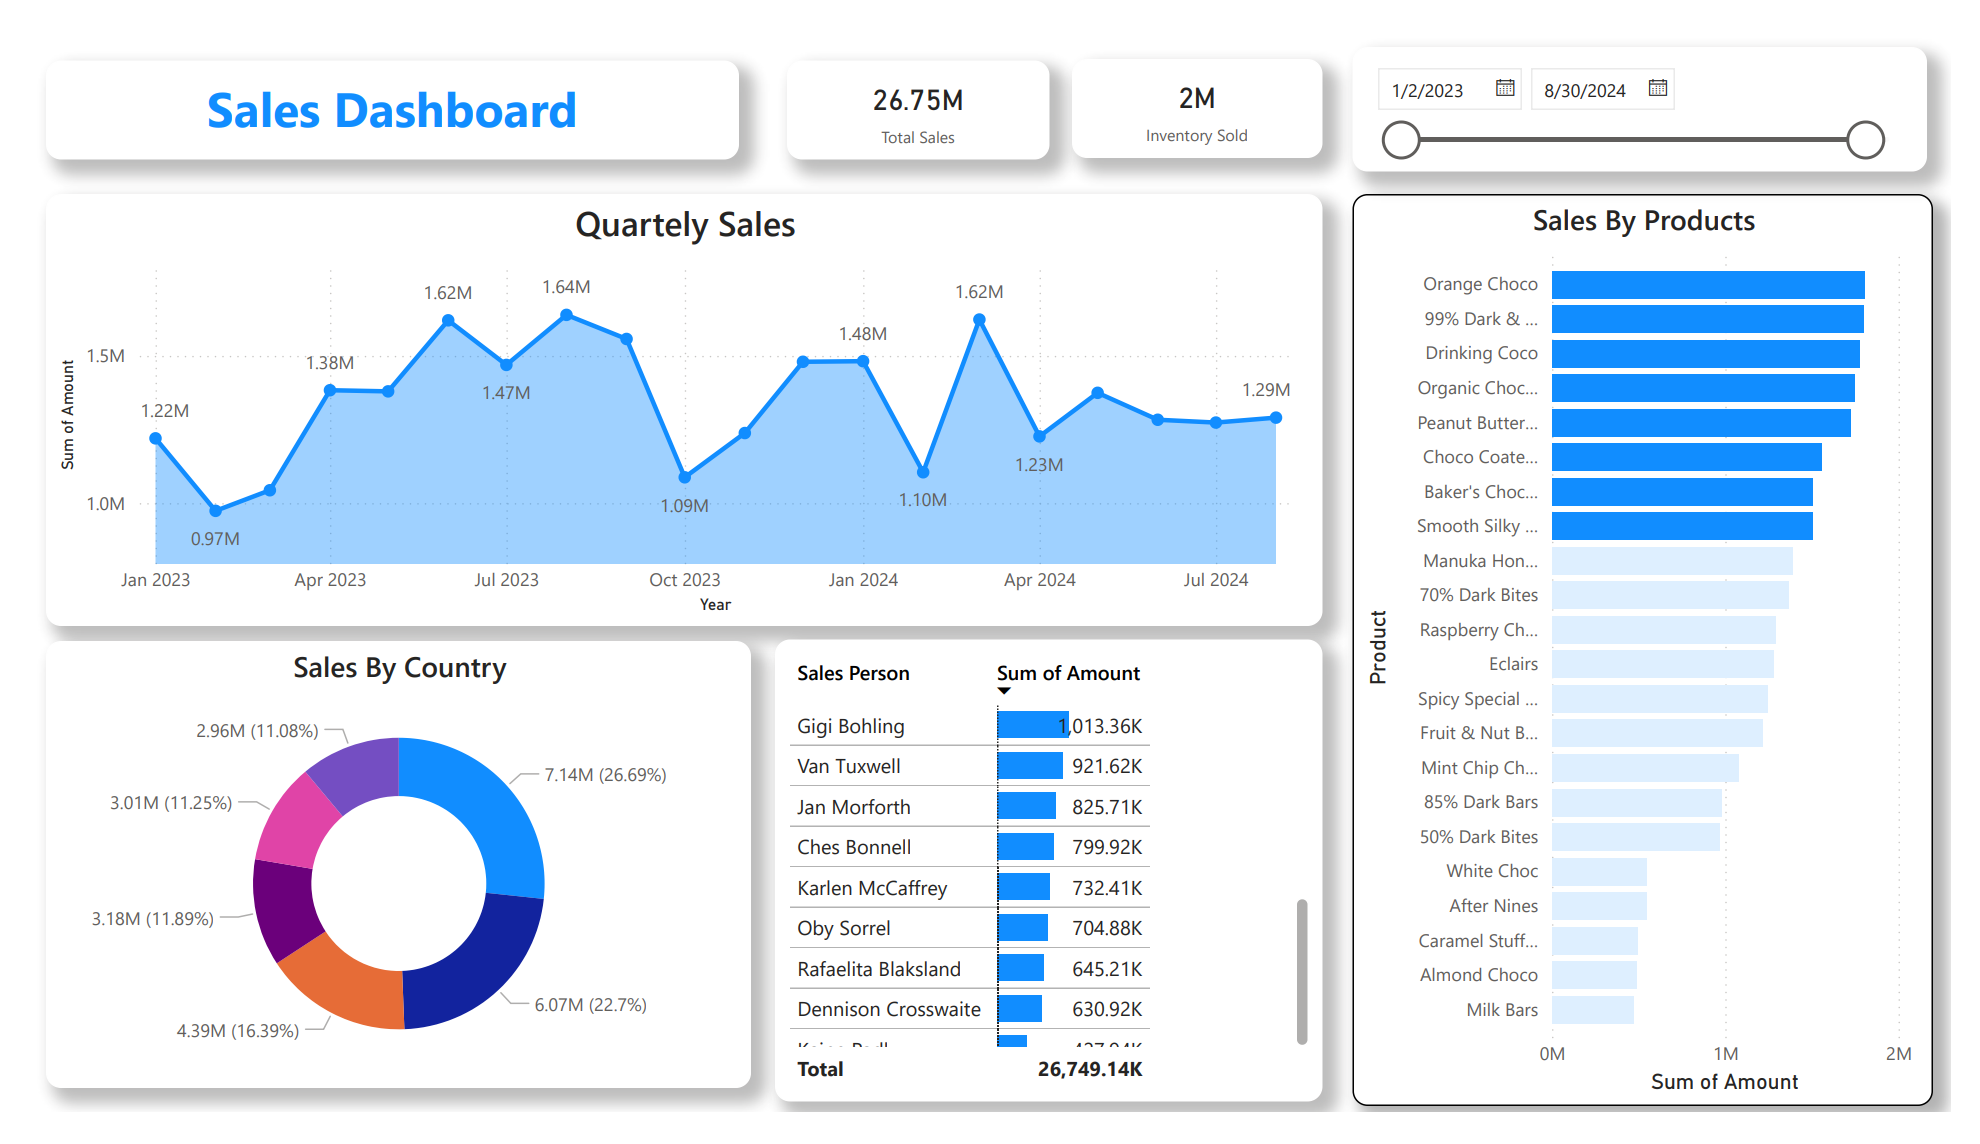

Layout of this report page (visuals, bound fields, positions):
{"tool":"powerbi","page":{"name":"Page 1","canvas":[1280,720],"ordinal":0},"visuals":[{"type":"lineChart","title":"Quartely Sales","fields":{"Category":["data.Date.Variation.Date Hierarchy.Year","data.Date.Variation.Date Hierarchy.Quarter","data.Date.Variation.Date Hierarchy.Month","data.Date.Variation.Date Hierarchy.Day"],"Y":["data.Amount"]},"box":[9.6,107.7,851.1,288.5],"z":0},{"type":"donutChart","title":"Sales By Country","fields":{"Category":["data.Country"],"Y":["data.Amount"],"Series":["data.Country"]},"box":[9.6,405.8,470.4,298.1],"z":1000},{"type":"tableEx","fields":{"Values":["data.Sales Person","data.Amount"]},"box":[495.6,404.6,365.1,308.8],"z":2000},{"type":"clusteredBarChart","title":"Sales By Products","fields":{"Category":["data.Product"],"Y":["data.Amount"]},"box":[881,107.7,386.6,608.1],"z":3000},{"type":"card","fields":{"Values":["data.Amount"]},"box":[503.9,19.2,174.8,65.8],"z":4000},{"type":"card","fields":{"Values":["data.Boxes"]},"box":[694.3,18,166.4,65.8],"z":5000},{"type":"slicer","fields":{"Values":["data.Date"]},"box":[881,9.6,383,83.8],"z":6000},{"type":"textbox","box":[9.6,19.2,462,65.8],"z":7000}]}

Visuals, with their boxes on the page's 1280x720 design canvas (x1, y1, x2, y2). These are canvas units, not pixel positions in the 1980x1144 screenshot, which may show the page scaled, cropped or inside an application window:
"Quartely Sales" lineChart: <region>10, 108, 861, 396</region>
"Sales By Country" donutChart: <region>10, 406, 480, 704</region>
tableEx - data.Sales Person x data.Amount: <region>496, 405, 861, 713</region>
"Sales By Products" clusteredBarChart: <region>881, 108, 1268, 716</region>
card - data.Amount: <region>504, 19, 679, 85</region>
card - data.Boxes: <region>694, 18, 861, 84</region>
slicer - data.Date: <region>881, 10, 1264, 93</region>
textbox: <region>10, 19, 472, 85</region>
